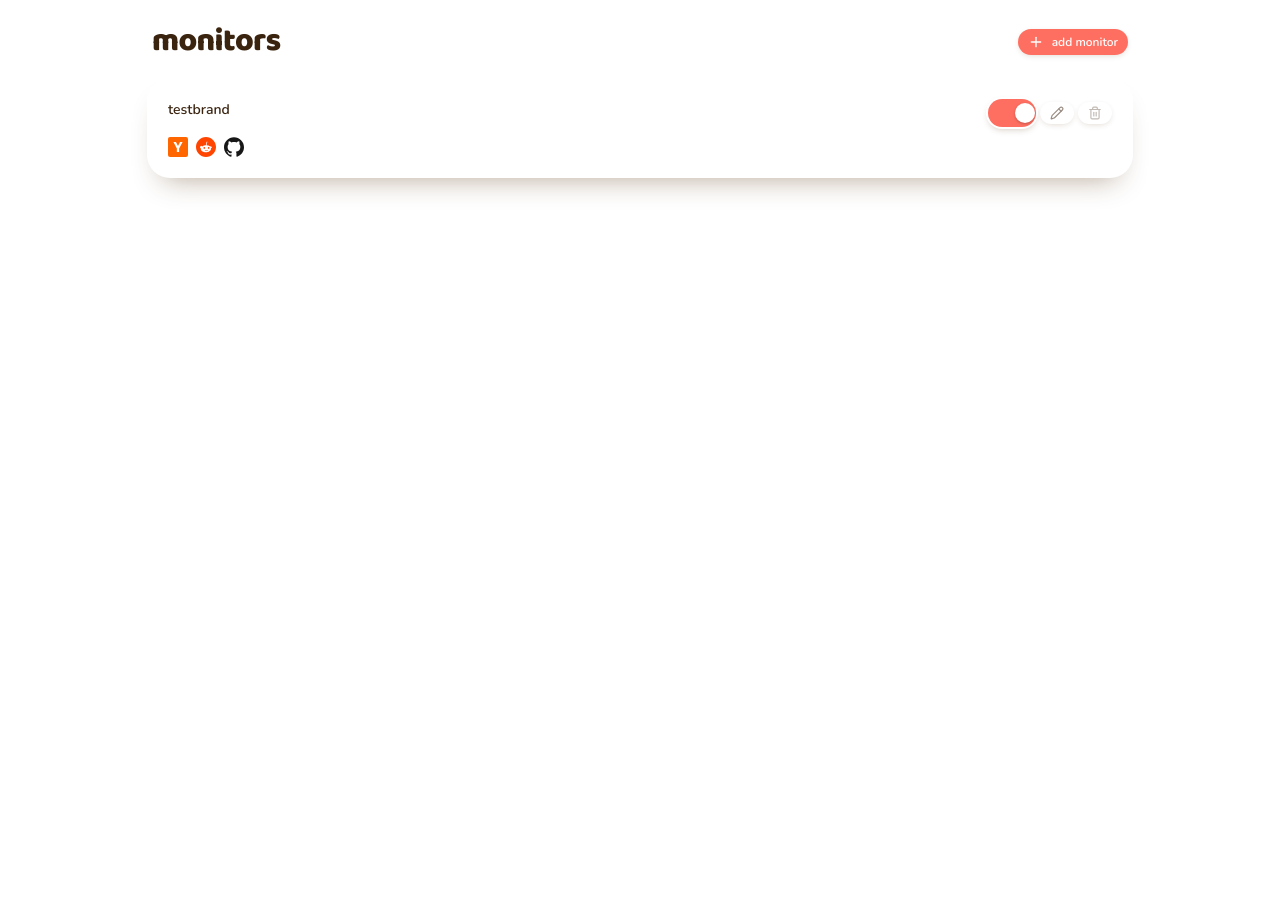
Test case: MonitorsPage › opens add monitor dialog
Click the button "add monitor" at point(1073, 42), box [1018, 29, 1128, 55]
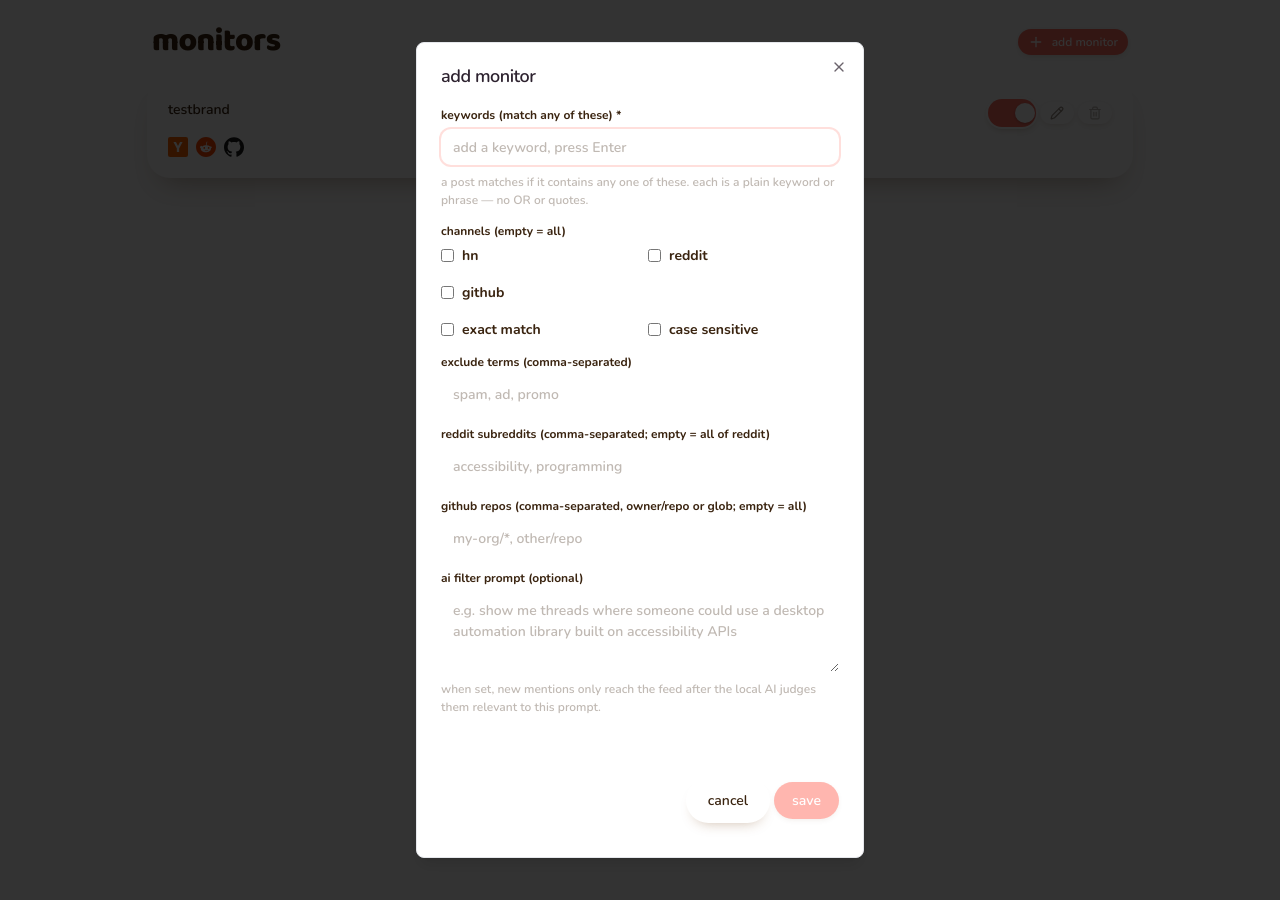
Now the text "keywords (match any of these) *" is shown, box [441, 107, 621, 123]
